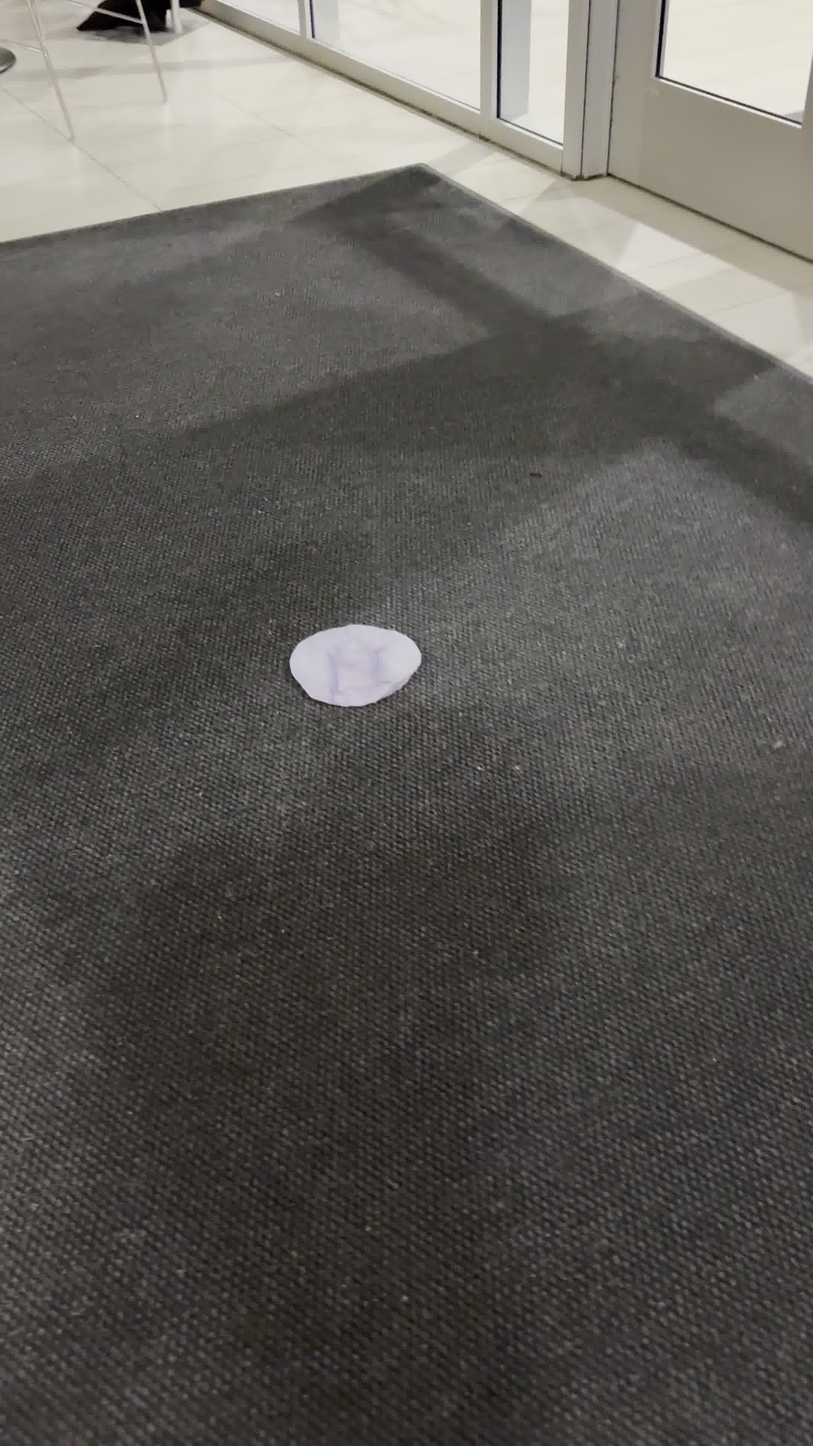Target: (290, 624, 422, 706)
